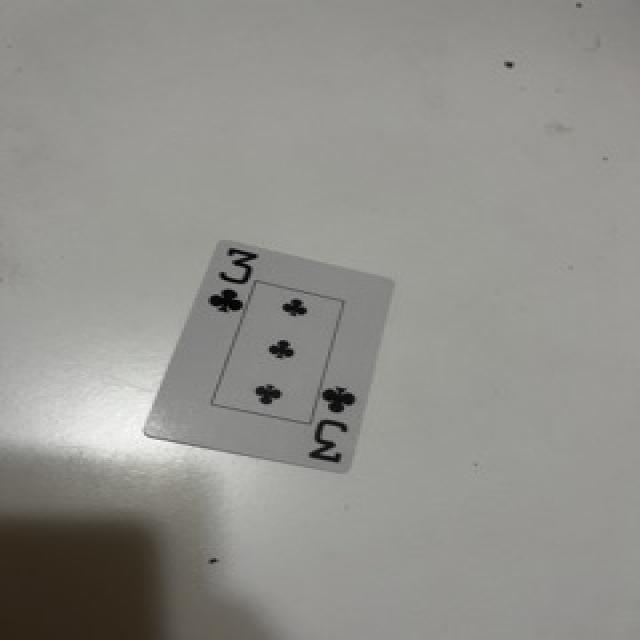3 of clubs: (145, 241, 393, 471)
